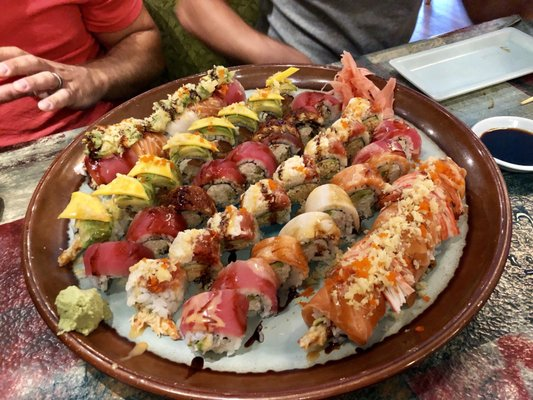curry: (1, 61, 515, 398)
sandwich: (20, 61, 501, 390)
